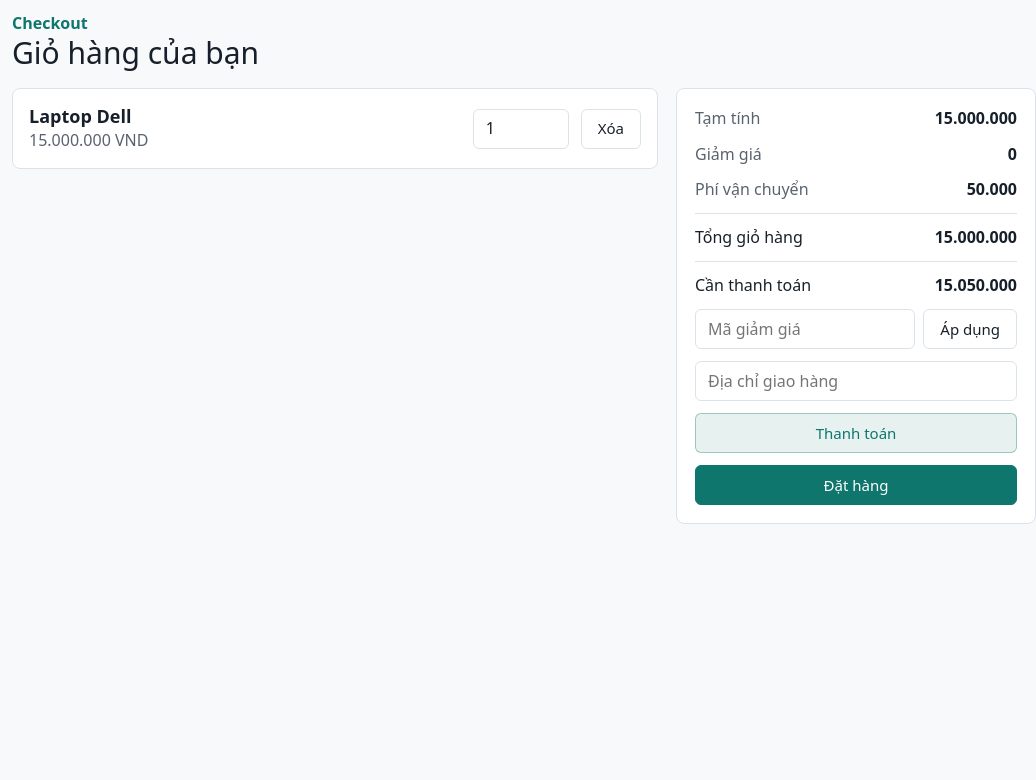
Test: Cart Component Integration Tests › c) Test error handling và success messages › TC16: Checkout hiển thị lỗi khi tạo đơn thất bại
The image size is (1036, 780).
Expected: the heading "Laptop Dell" is shown, [29, 104, 131, 128]
Type "123 Nguyen Trai" into the field with test id "shipping-address-input" at (856, 381), box [695, 361, 1017, 401]
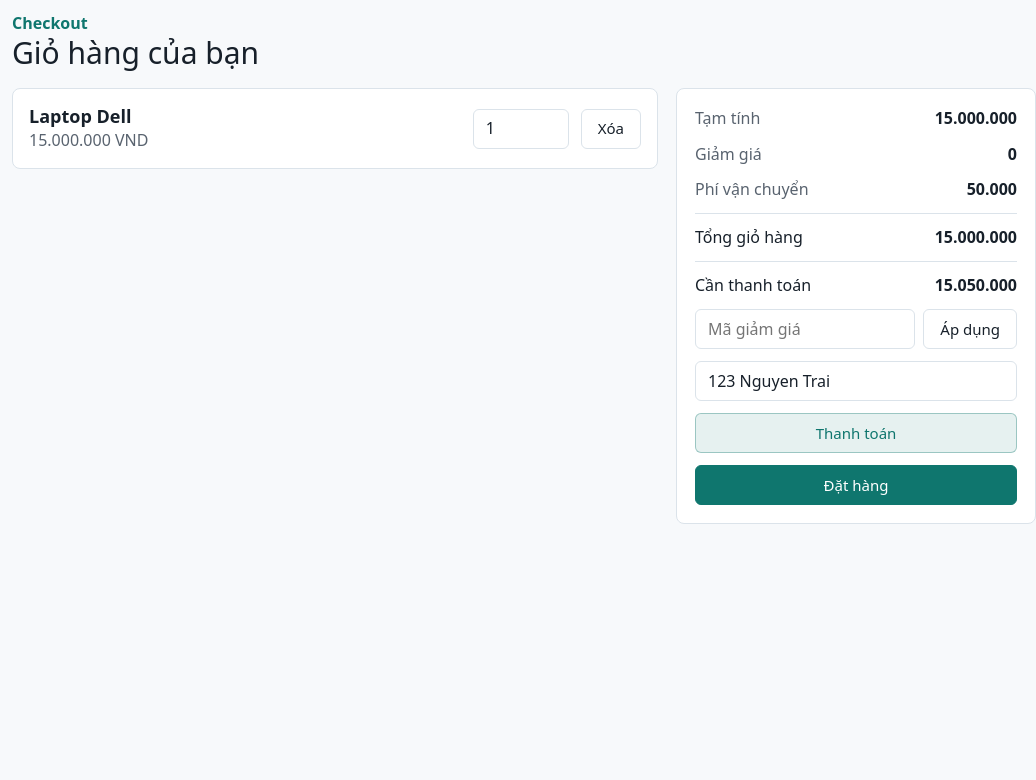
Click the button with test id "place-order-btn" at (856, 485), box [695, 465, 1017, 505]
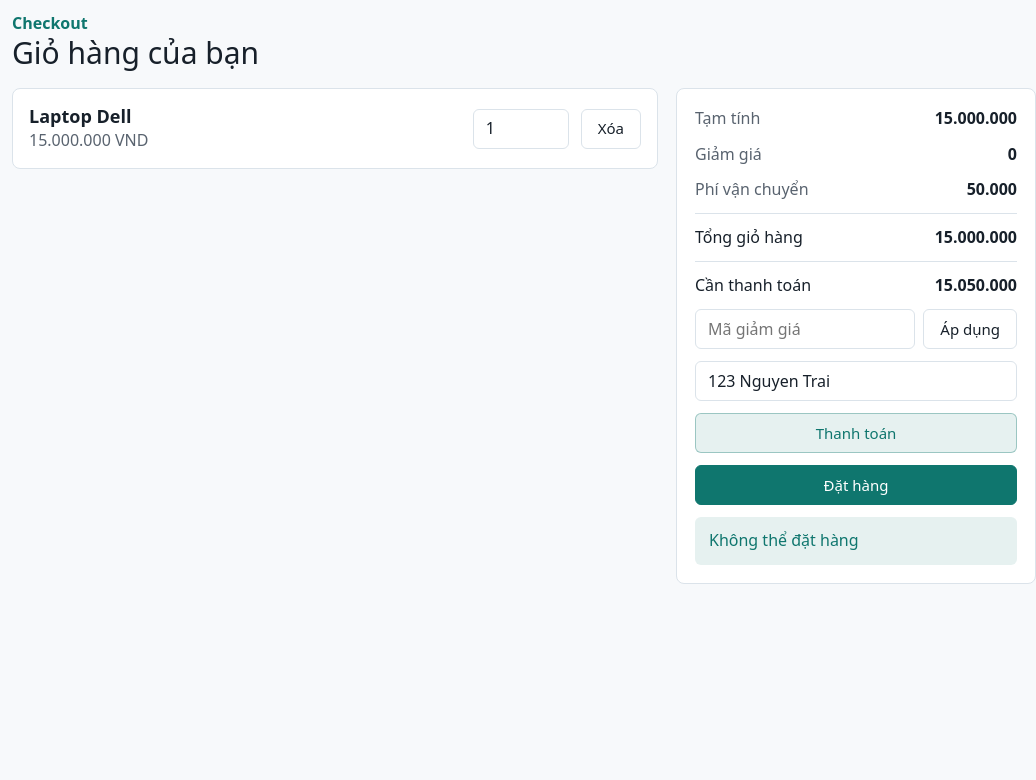
Now the text with test id "form-message" reads "Không thể đặt hàng", box [709, 529, 859, 551]
